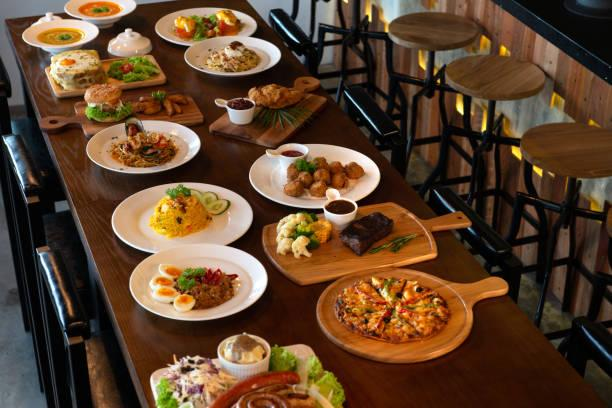Braised Crucian Carp: (319, 267, 503, 364), (264, 200, 453, 286), (149, 339, 341, 405), (128, 244, 267, 320), (110, 181, 250, 252), (248, 143, 377, 208), (84, 119, 197, 173), (184, 37, 281, 80), (157, 8, 259, 46)
